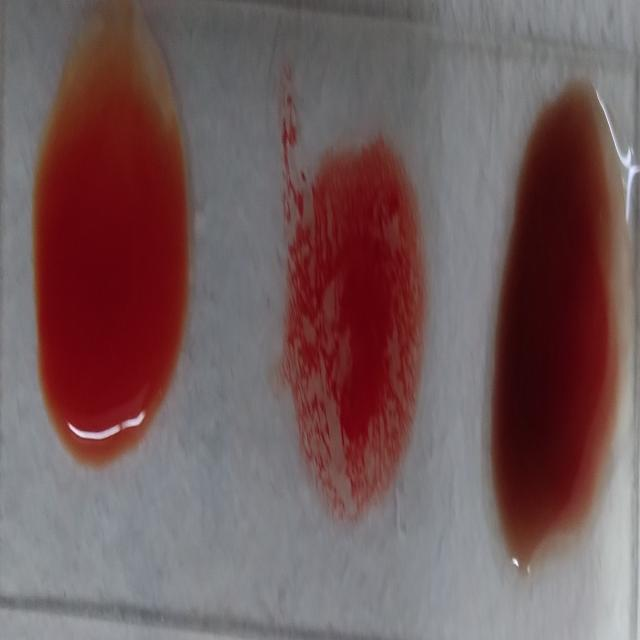D: (284, 141, 422, 528)
